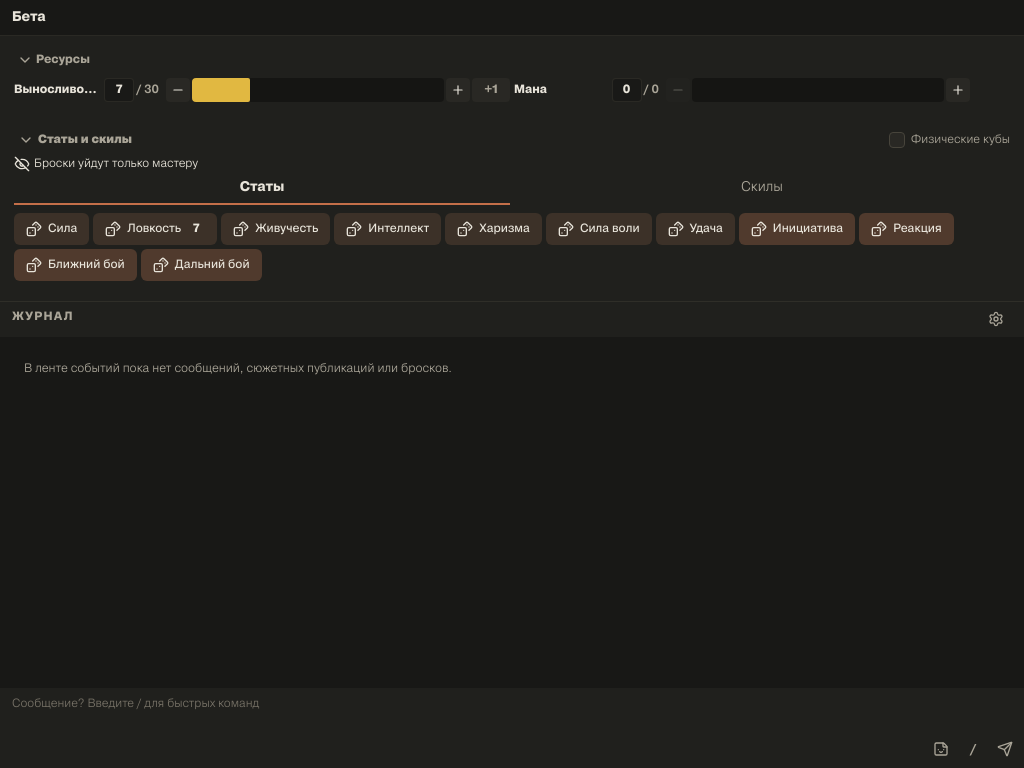
Scenario: ActivityPanel action context (UIX-621) › keeps action-specific feedback for an unstructured HTTP failure
The width and height of the screenshot is (1024, 768).
Type "Черновик" into the text box named "Сообщение или бросок". click: (512, 728)
box: [12,696,1012,760]
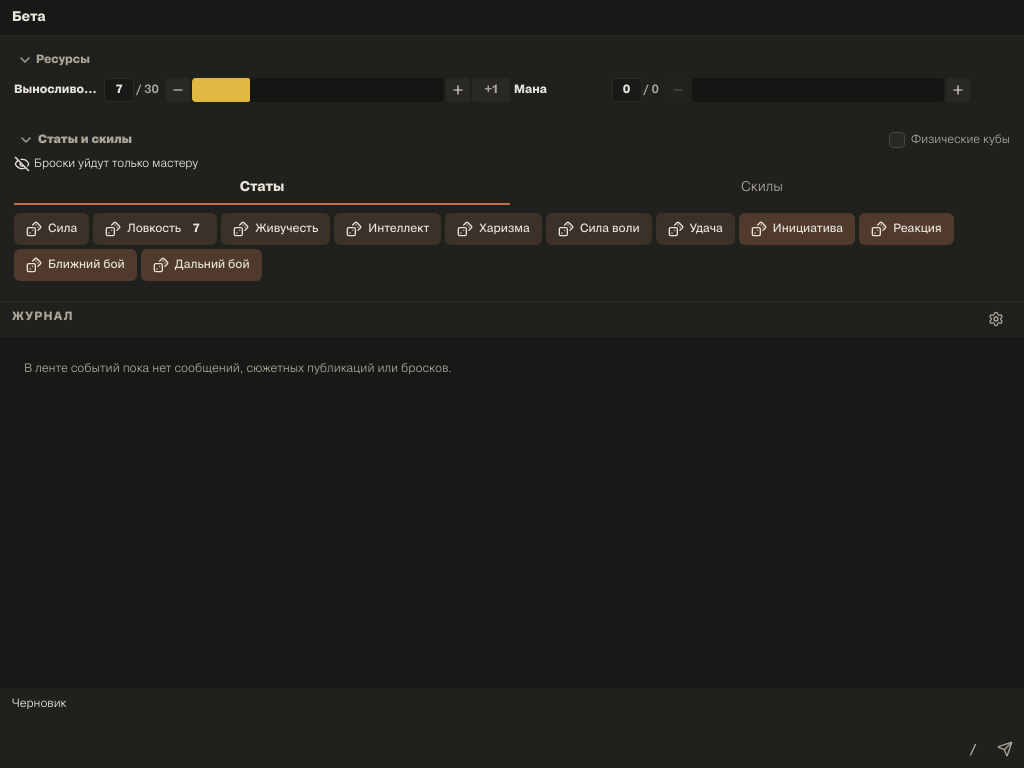
Click the button named "Отправить.". click: (1005, 749)
box: [990,734,1020,764]
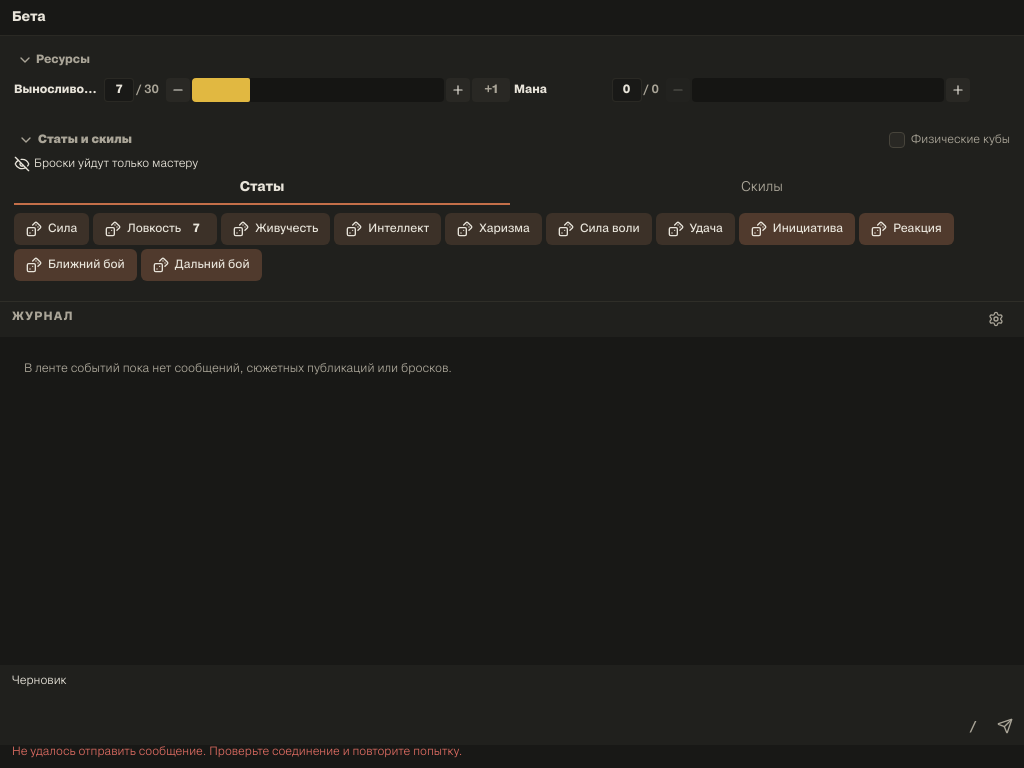
Check: the message "Не удалось отправить сообщение. Проверьте соединение и повторите попытку." is shown, box [12,747,462,757]
